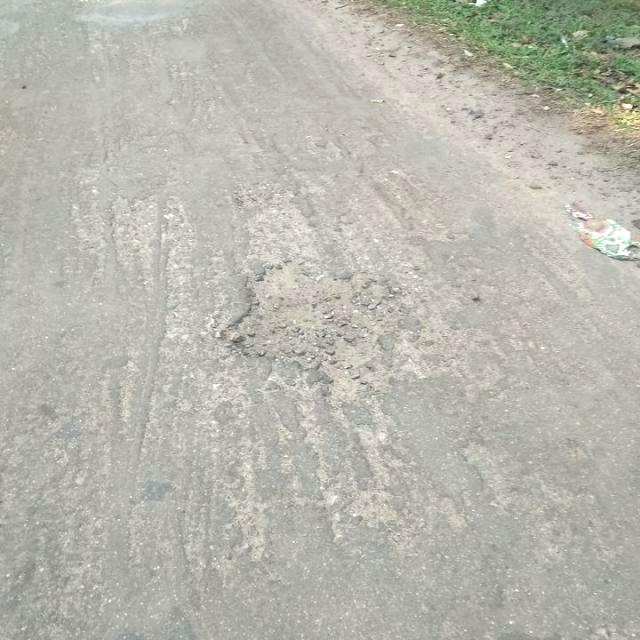Pothole: (224, 257, 409, 372)
